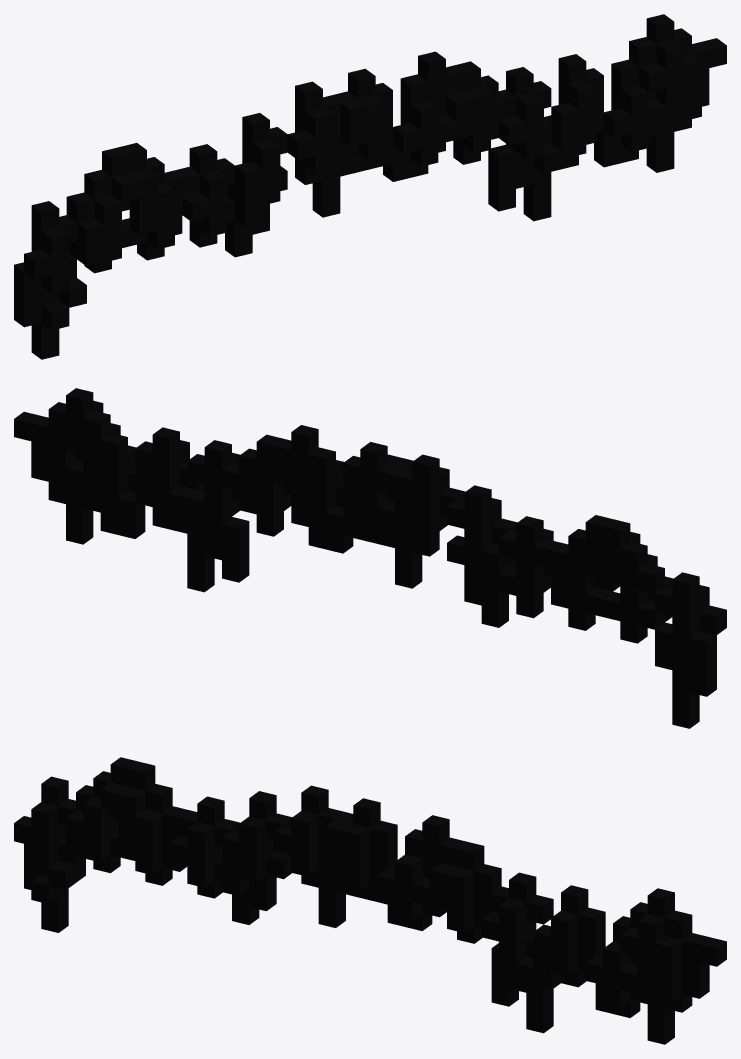
The model's file is Button_Backbone_Pressef.002.fbx.
3 renders of one model, top to bottom at view 1: azimuth 30°, elevation 25°; view 2: azimuth 150°, elevation 25°; view 3: azimuth 330°, elevation 25°, orthographic.
Parts seen in each view (by area): view 1: Button_Backbone_Pressef.002; view 2: Button_Backbone_Pressef.002; view 3: Button_Backbone_Pressef.002.
Boxes of the visible parts, x1,y1,x2,y2 form: Button_Backbone_Pressef.002: (14,14,726,359); Button_Backbone_Pressef.002: (14,388,726,728); Button_Backbone_Pressef.002: (14,757,726,1044).
Bounding box in the file's own units: 4 × 1.1 × 0.2.
